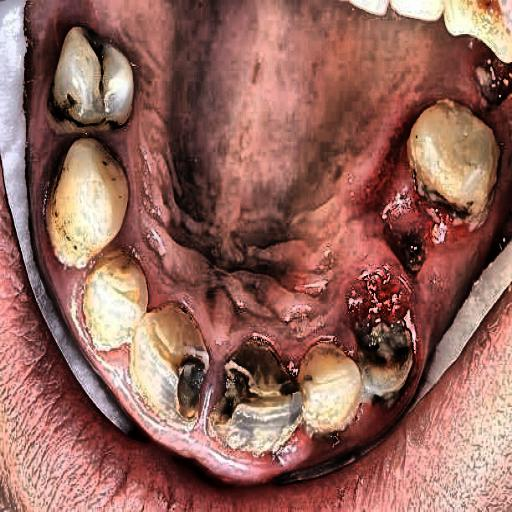Gingivitis: (344, 148, 482, 356), (28, 201, 115, 384)
